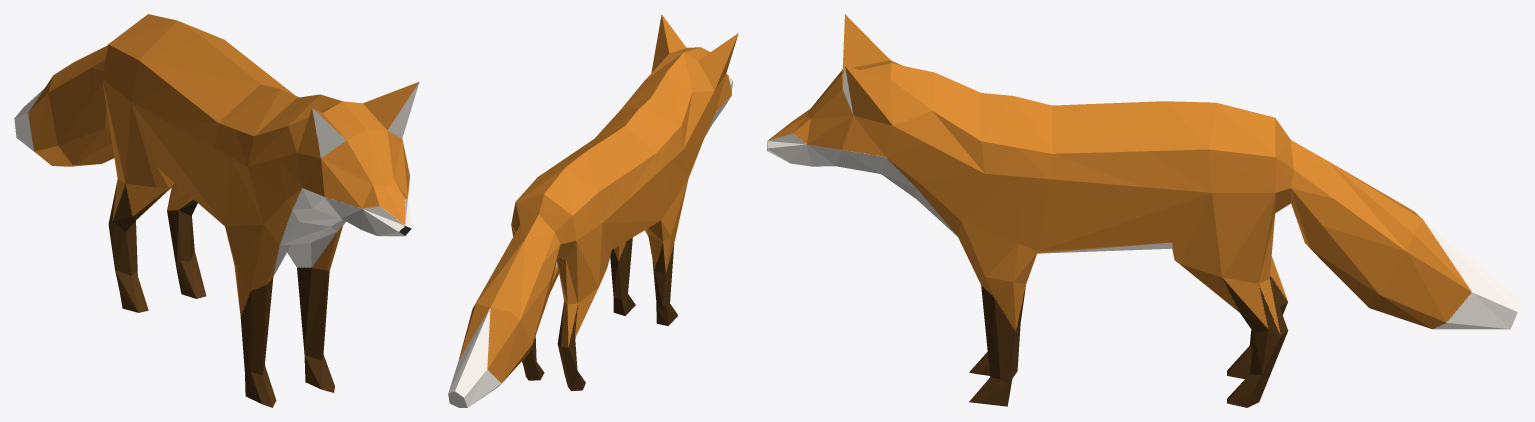
File: fox.obj
3 renders of one model, left to right at view 1: azimuth 30°, elevation 25°; view 2: azimuth 150°, elevation 25°; view 3: azimuth 270°, elevation 25°, orthographic. The views are drawn at different scales.
Parts seen in each view (by area): view 1: fox1_Untitled; view 2: fox1_Untitled; view 3: fox1_Untitled.
Boxes of the visible parts, box(x1,y1,x2,y2) form: fox1_Untitled: box(14, 14, 419, 407); fox1_Untitled: box(448, 14, 738, 407); fox1_Untitled: box(767, 14, 1520, 407).
Bounding box in the file's own units: 0.6397 × 2.01 × 3.93.
1 material, 1 textured.
